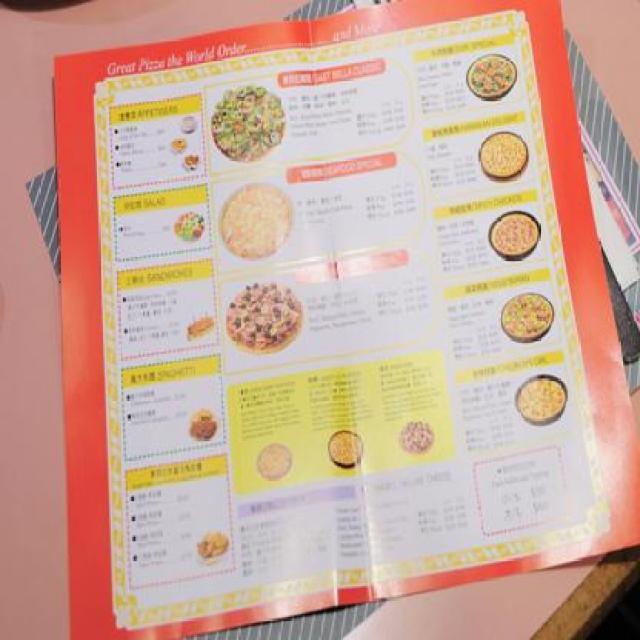Pizza: (209, 82, 286, 165), (218, 184, 292, 258), (228, 272, 288, 352), (475, 130, 528, 181), (502, 288, 555, 339), (466, 50, 517, 101), (488, 208, 540, 258), (519, 372, 564, 417), (327, 430, 362, 468), (400, 418, 434, 454), (256, 444, 290, 476)
